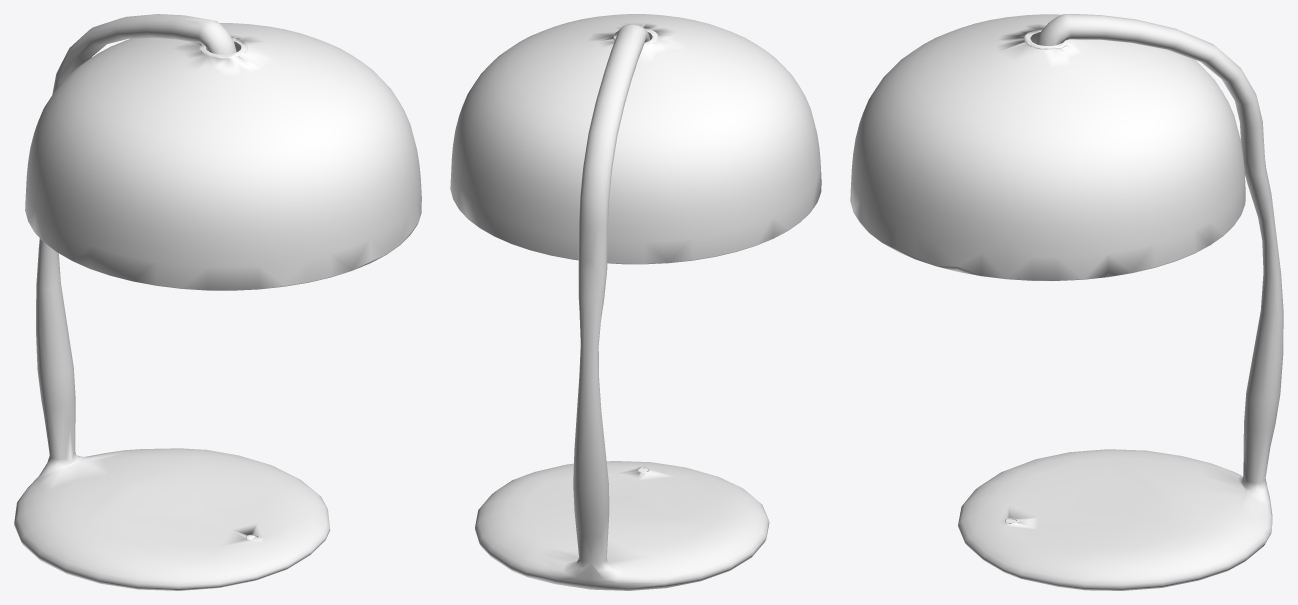
File: bedside_lamp.glb
3 renders of one model, left to right at view 1: azimuth 30°, elevation 25°; view 2: azimuth 150°, elevation 25°; view 3: azimuth 270°, elevation 25°, orthographic. The views are drawn at different scales.
Visible parts, largest first — view 1: LampGlass_0001, LampMetal_0002; view 2: LampGlass_0001, LampMetal_0002; view 3: LampGlass_0001, LampMetal_0002.
Boxes of the visible parts, x1,y1,x2,y2 form: LampGlass_0001: [25, 23, 421, 290]; LampMetal_0002: [14, 14, 330, 590]; LampGlass_0001: [450, 14, 821, 264]; LampMetal_0002: [475, 24, 769, 590]; LampGlass_0001: [850, 14, 1245, 280]; LampMetal_0002: [958, 14, 1283, 590].
Size of the model in its own units: 0.168 by 0.2422 by 0.1841.
2 materials, 2 textured.
